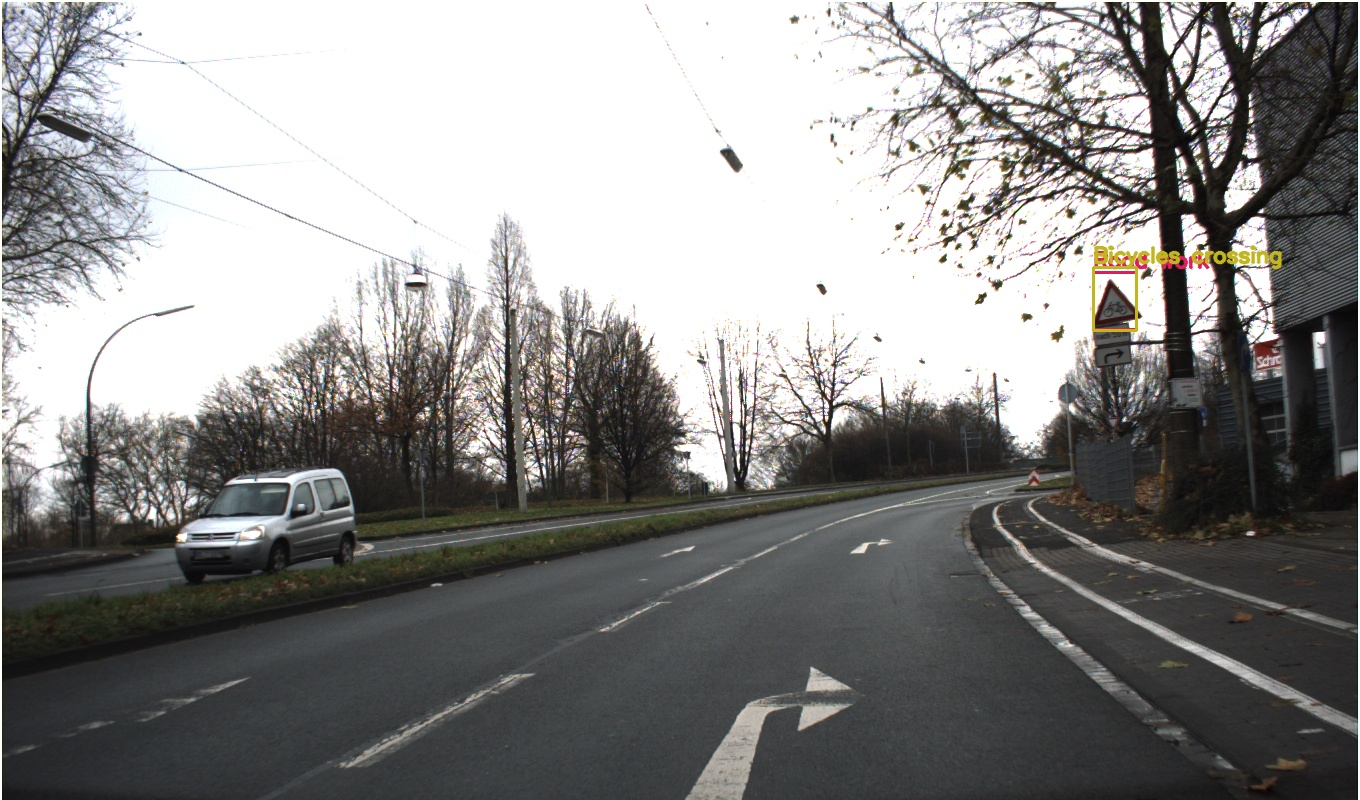No passing: (915, 389, 960, 434)
Speed limit (30km/h): (910, 326, 956, 372)
